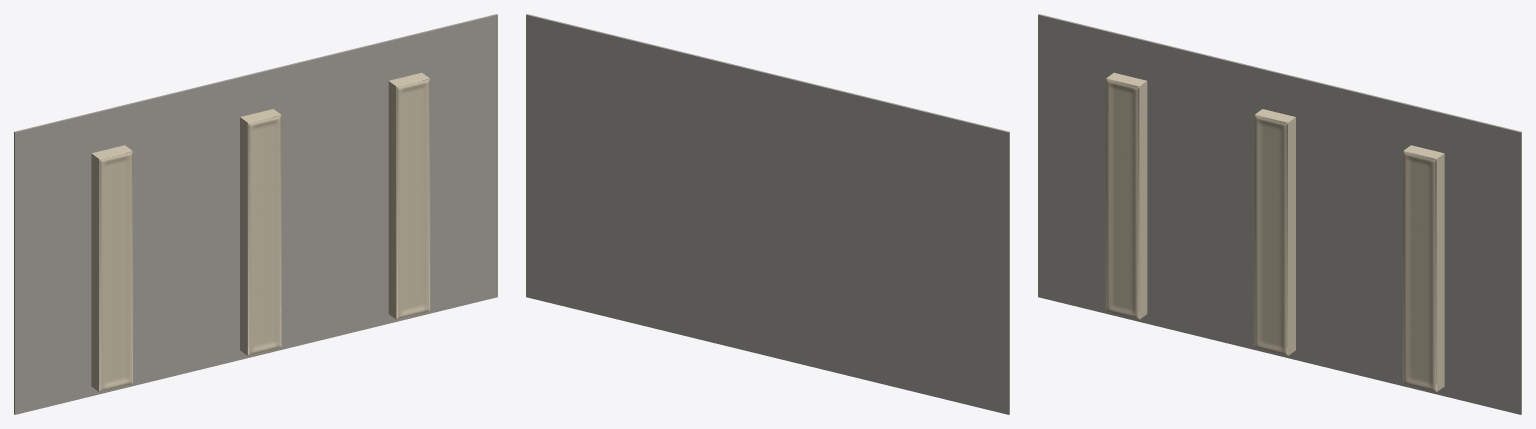
File: terilgan.glb
3 renders of one model, left to right at view 1: azimuth 30°, elevation 25°; view 2: azimuth 150°, elevation 25°; view 3: azimuth 330°, elevation 25°, orthographic.
Parts seen in each view (by area): view 1: Devor, t2, t0, t1; view 2: Devor; view 3: Devor, t0, t2, t1.
Part boxes in pixels (<box>): Devor: <box>14,14,497,414</box>; t2: <box>388,72,430,319</box>; t0: <box>91,145,133,392</box>; t1: <box>240,109,281,355</box>; Devor: <box>526,14,1009,414</box>; Devor: <box>1038,14,1521,414</box>; t0: <box>1105,72,1147,319</box>; t2: <box>1402,145,1444,392</box>; t1: <box>1254,109,1295,355</box>.
Bounding box in the file's own units: 2.6 × 1.45 × 0.0917.
